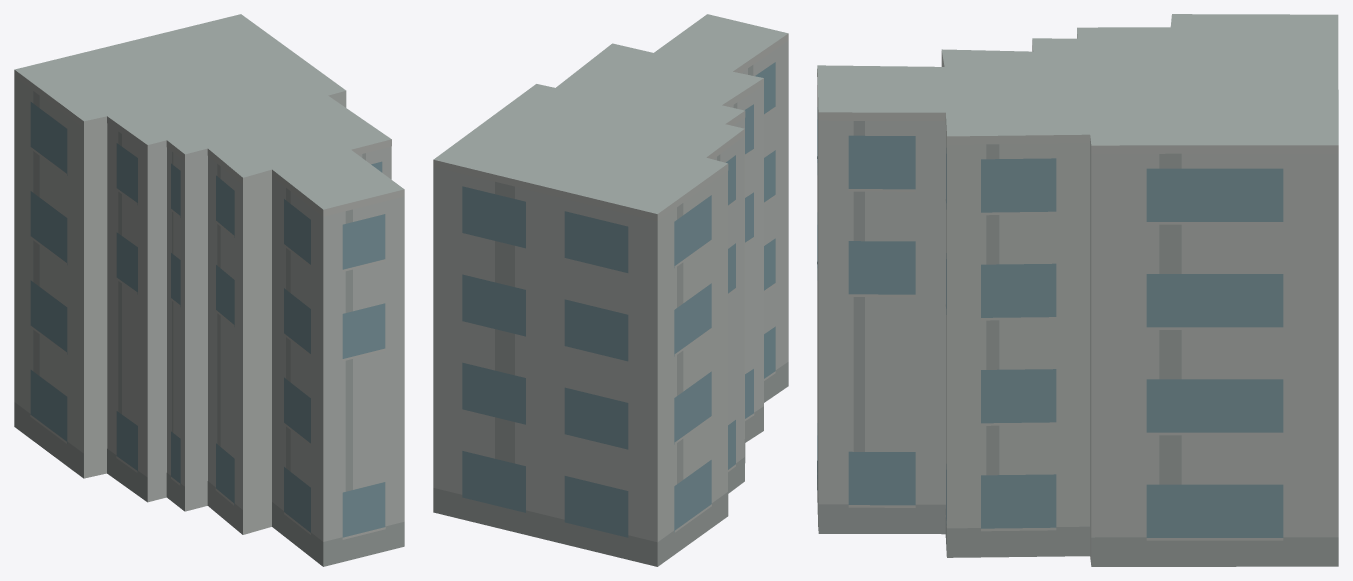
File: residential-4adabbe3-76e7-402d-ae3a-061d279de986.glb
The picture shows the model from 3 angles, left to right: view 1: azimuth 30°, elevation 25°; view 2: azimuth 150°, elevation 25°; view 3: azimuth 270°, elevation 25°; orthographic projection. The views are drawn at different scales.
Visible parts, largest first — view 1: residential-4adabbe3-76e7-402d-ae3a-061d279de986.tmp; view 2: residential-4adabbe3-76e7-402d-ae3a-061d279de986.tmp; view 3: residential-4adabbe3-76e7-402d-ae3a-061d279de986.tmp.
Part boxes in pixels (x1,y1,x2,y2): residential-4adabbe3-76e7-402d-ae3a-061d279de986.tmp: (14,14,404,566); residential-4adabbe3-76e7-402d-ae3a-061d279de986.tmp: (433,14,788,566); residential-4adabbe3-76e7-402d-ae3a-061d279de986.tmp: (817,14,1338,566).
Bounding box in the file's own units: 8.18 × 12.2 × 13.69.
